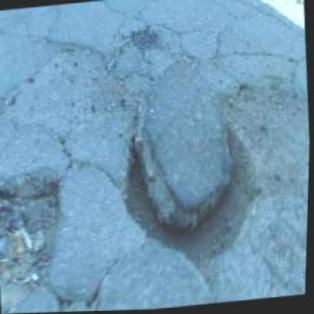Hueco: (115, 102, 271, 282), (0, 168, 73, 298)
